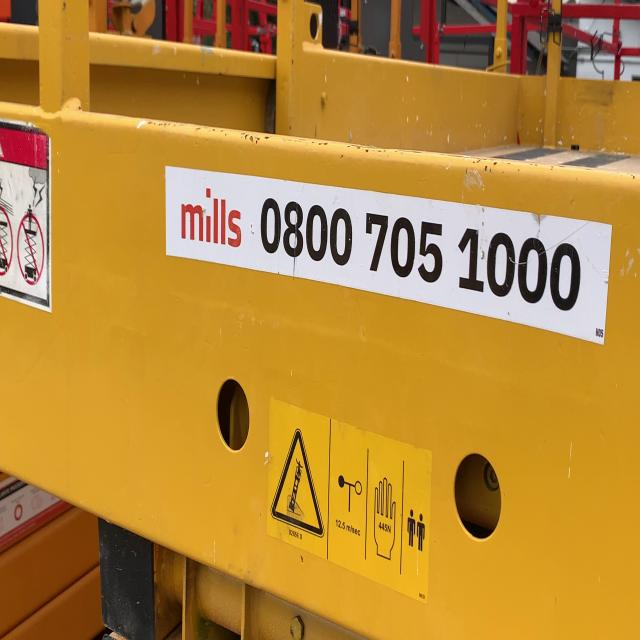Adesivo Longo: (160, 159, 618, 355)
